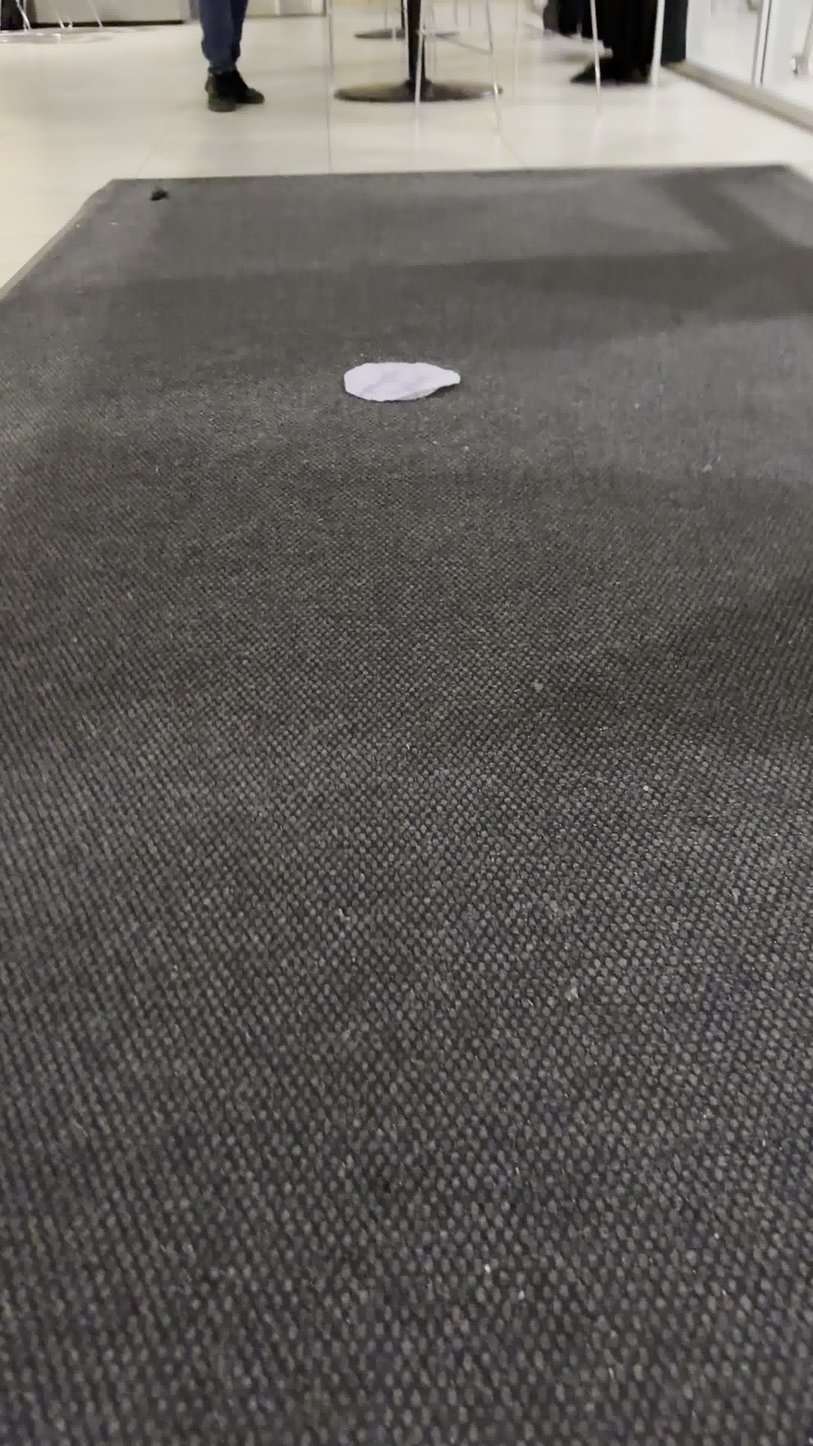Target: (340, 357, 465, 404)
